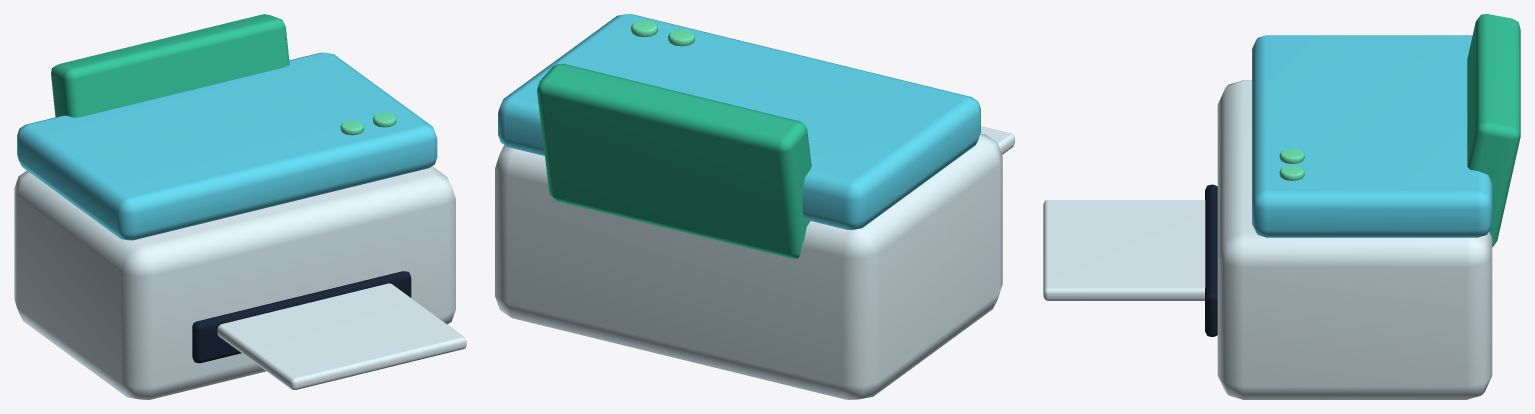
File: printer.glb
3 renders of one model, left to right at view 1: azimuth 30°, elevation 25°; view 2: azimuth 150°, elevation 25°; view 3: azimuth 270°, elevation 25°, orthographic. The views are drawn at different scales.
Parts seen in each view (by area): view 1: printer; view 2: printer; view 3: printer.
Part boxes in pixels (bbox=[...]): printer: bbox=[14, 14, 466, 399]; printer: bbox=[495, 14, 1014, 399]; printer: bbox=[1043, 14, 1520, 399].
Bounding box in the file's own units: 0.8628 × 0.5896 × 1.
Materials: 1 (1 with a texture image).
